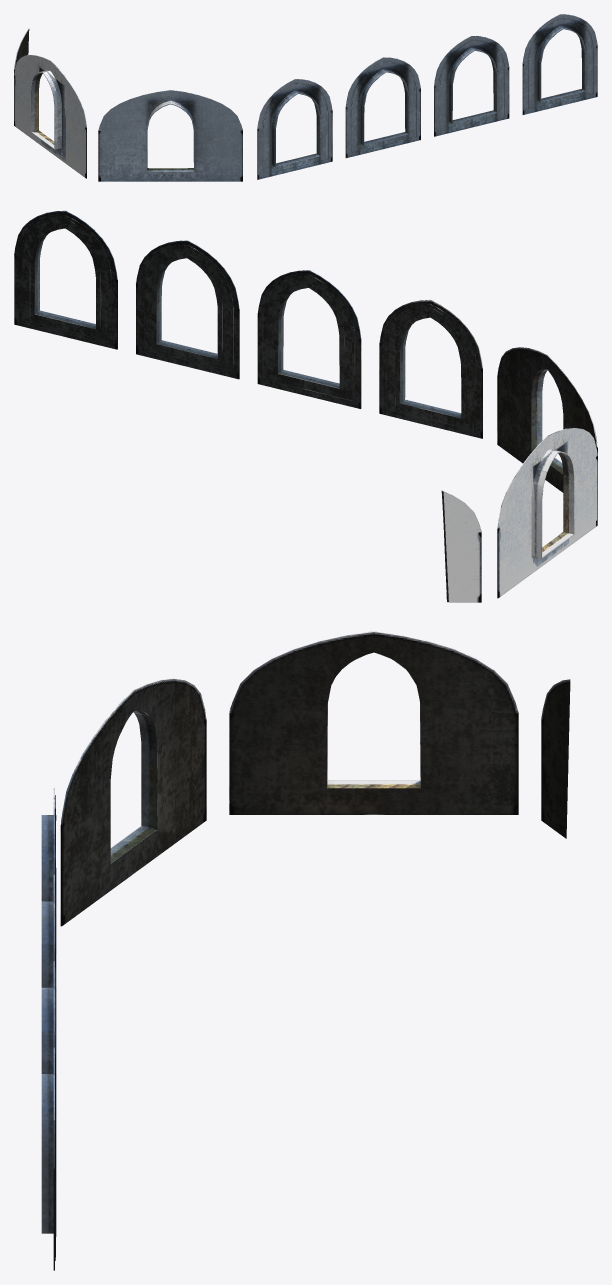
File: WindowFrame.obj
3 renders of one model, top to bottom at view 1: azimuth 30°, elevation 25°; view 2: azimuth 150°, elevation 25°; view 3: azimuth 270°, elevation 25°, orthographic. The views are drawn at different scales.
Visible parts, largest first — view 1: Circle.050_0.002; view 2: Circle.050_0.002; view 3: Circle.050_0.002.
Part boxes in pixels (bbox=[...]): Circle.050_0.002: bbox=[14, 14, 597, 181]; Circle.050_0.002: bbox=[14, 210, 597, 602]; Circle.050_0.002: bbox=[41, 631, 570, 1270].
Size of the model in its own units: 36.91 by 6.8 by 17.8.
